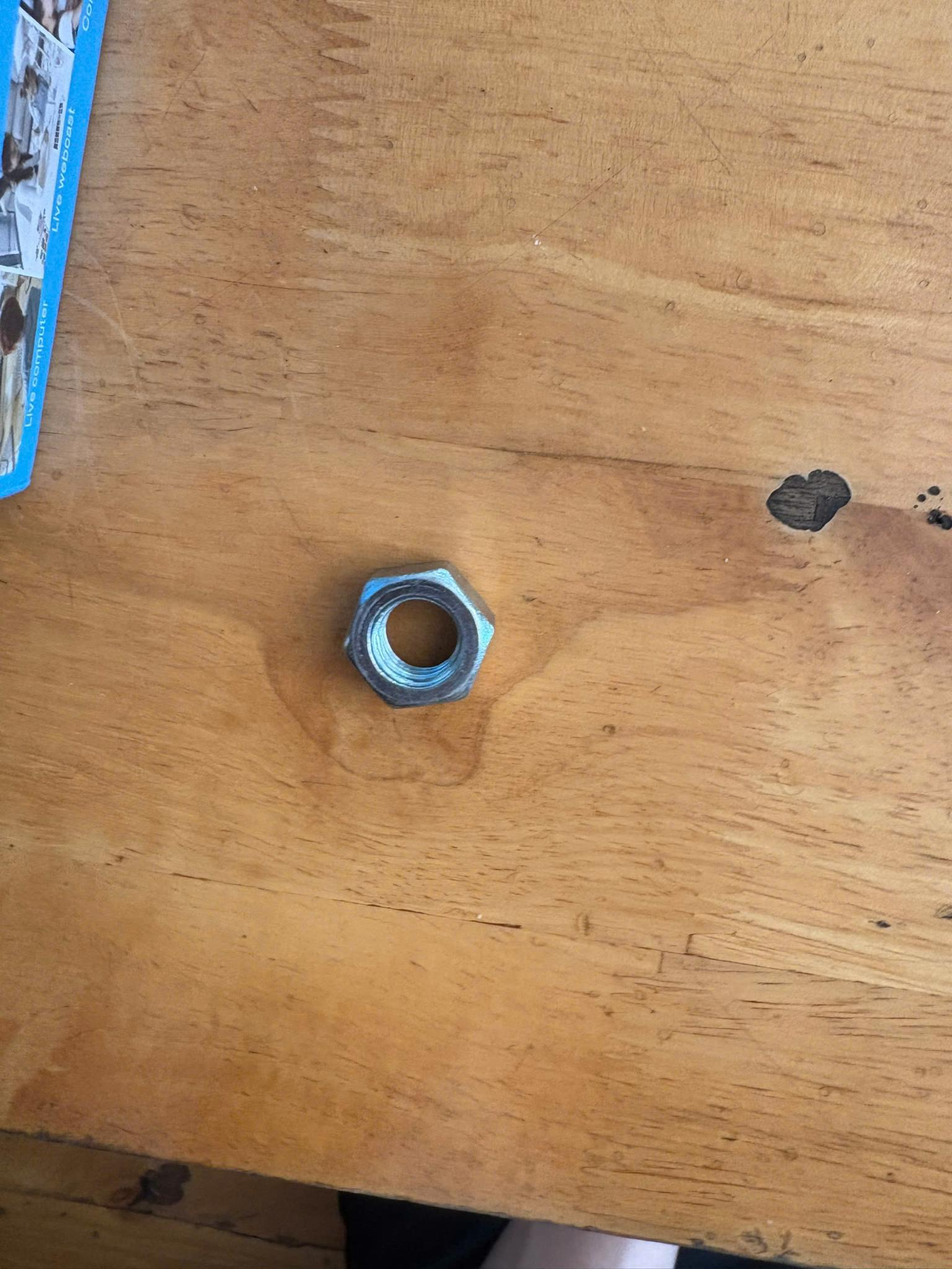nut: (307, 536, 506, 738)
